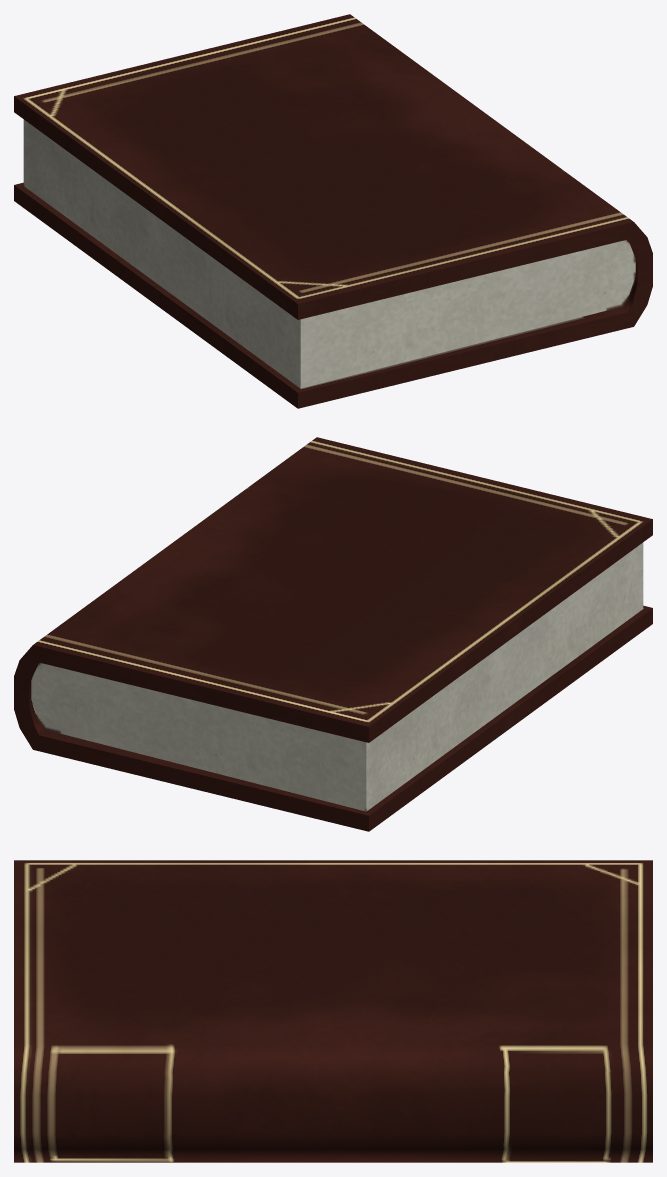
The model's file is Book02.fbx.
The picture shows the model from 3 angles, top to bottom: view 1: azimuth 30°, elevation 25°; view 2: azimuth 150°, elevation 25°; view 3: azimuth 270°, elevation 25°; orthographic projection. The views are drawn at different scales.
Parts seen in each view (by area): view 1: prop_book_02_inst_001; view 2: prop_book_02_inst_001; view 3: prop_book_02_inst_001.
Boxes of the visible parts, x1=… form: prop_book_02_inst_001: x1=14, y1=14, x2=652, y2=408; prop_book_02_inst_001: x1=14, y1=437, x2=652, y2=831; prop_book_02_inst_001: x1=14, y1=860, x2=652, y2=1162.
Bounding box in the file's own units: 30.2 × 8.52 × 41.83.
1 material, 1 textured.
